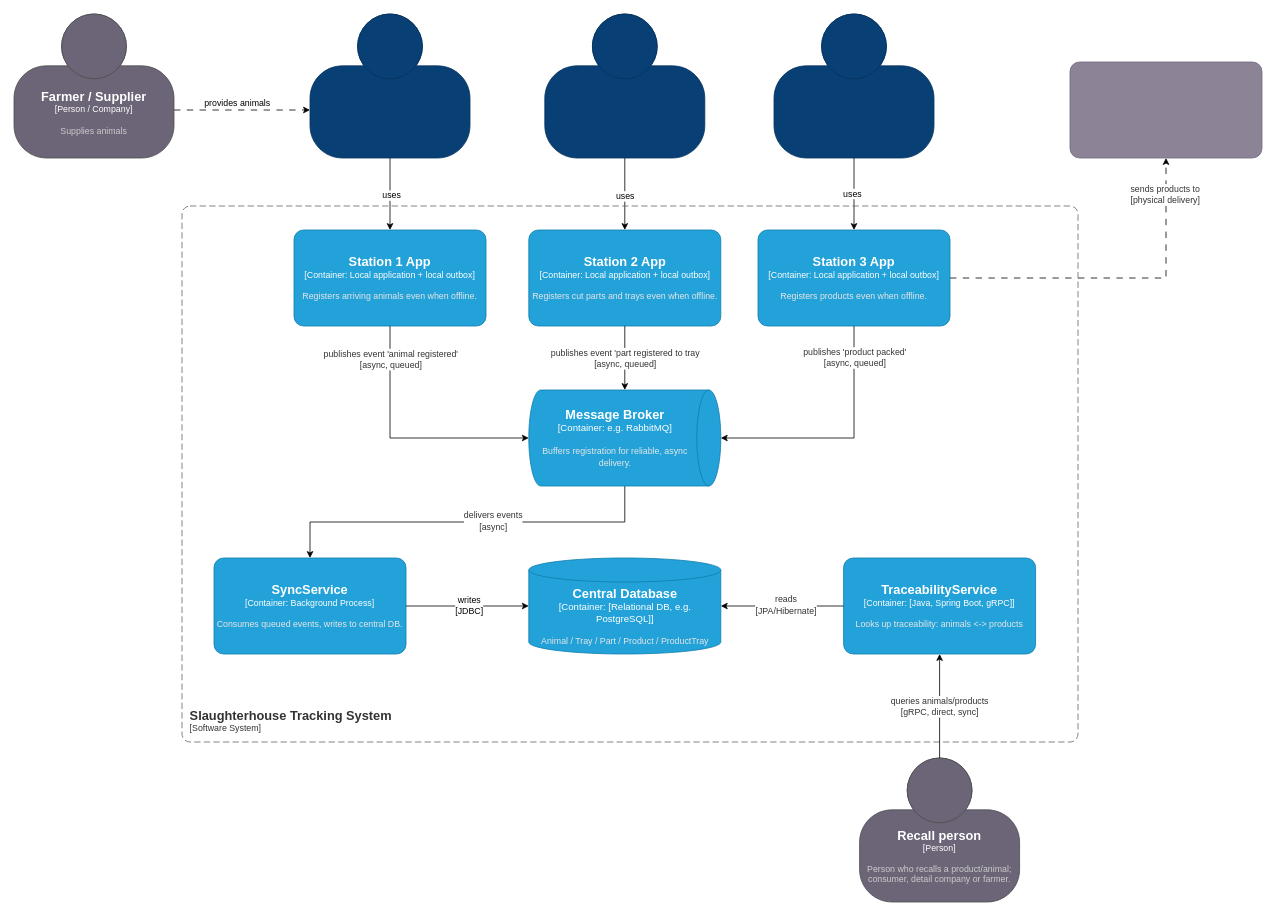
Some shapes in this 1276 by 916 pixel diagram are drawn without their labels. The centre of each missing label's shape, as x and y in pixels:
"Retail / Store [External system] Sells products to consumers" goes at (x=1165, y=109).
"Station 1 Worker [Person] Weighs and registers animals." goes at (x=389, y=85).
"Station 2 Worker [Person] cuts, weights and registers parts" goes at (x=624, y=85).
"Station 3 Worker [Person] packs products" goes at (x=853, y=85).
